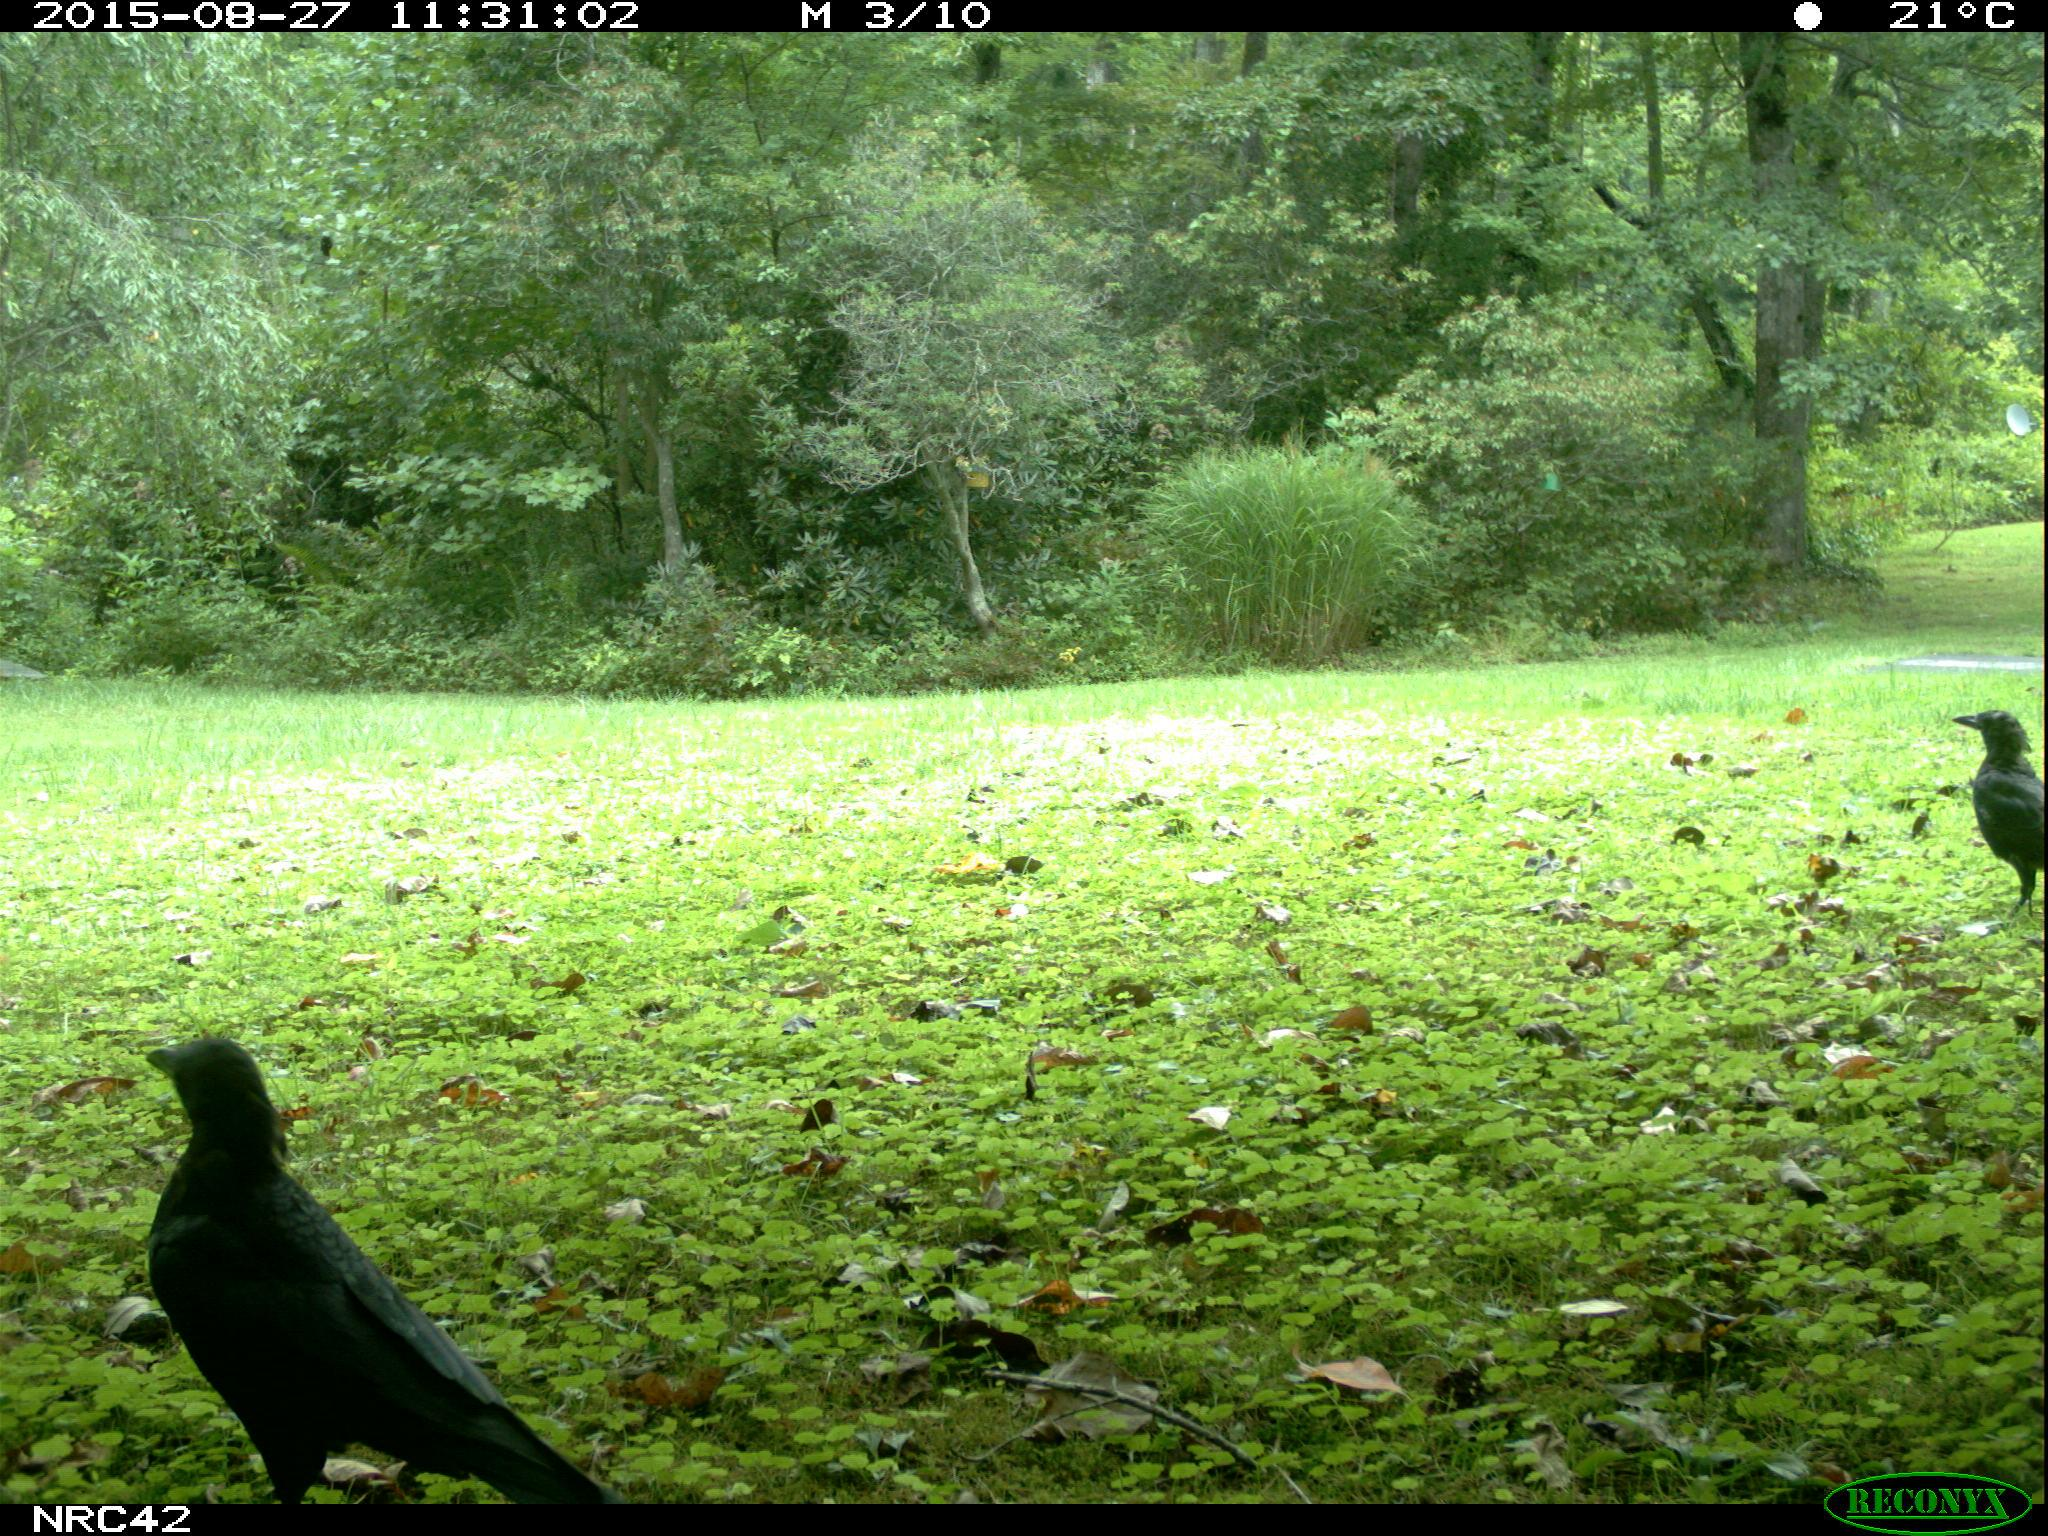Animal: (145, 1033, 619, 1504), (1950, 707, 2045, 928)
